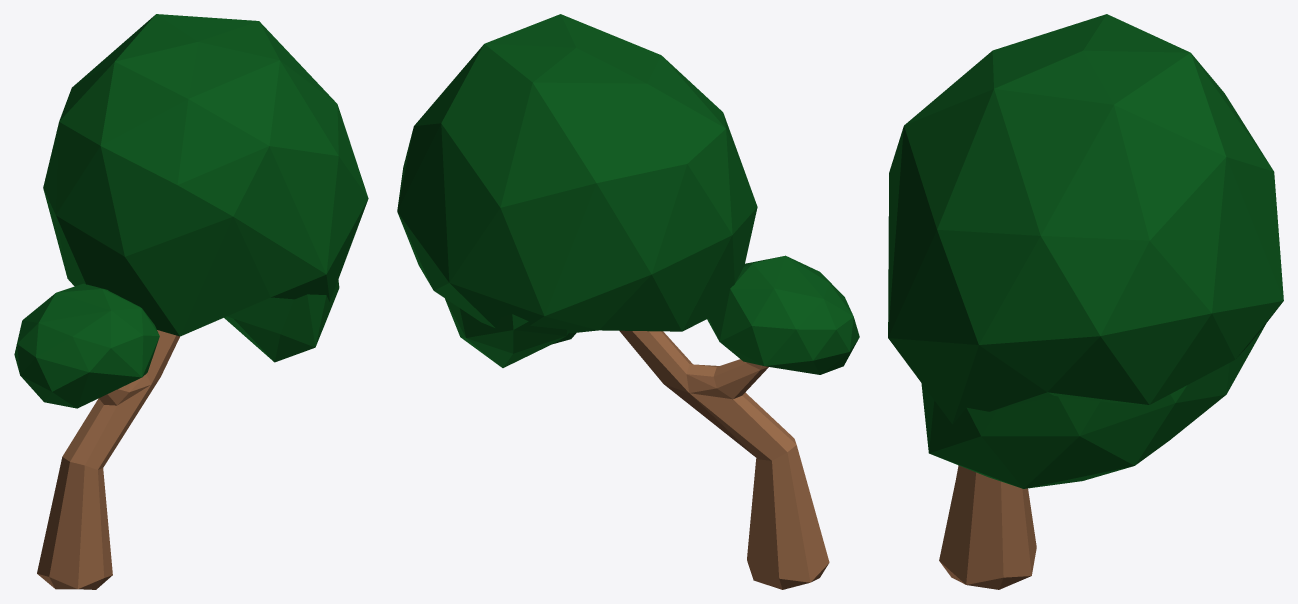
Rendered from tree3.gltf.
3 views of the same model, side by side, from view 1: azimuth 30°, elevation 25°; view 2: azimuth 150°, elevation 25°; view 3: azimuth 270°, elevation 25° (orthographic). The views are drawn at different scales.
Visible parts, largest first — view 1: Tree 38_64; view 2: Tree 38_64; view 3: Tree 38_64.
Boxes of the visible parts, box(x1,y1,x2,y2) form: Tree 38_64: box(14, 14, 368, 589); Tree 38_64: box(397, 14, 859, 589); Tree 38_64: box(888, 14, 1283, 589).
Bounding box in the file's own units: 1.35 × 1.69 × 0.9592.
